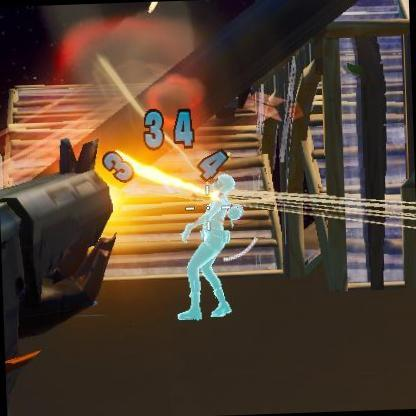person: (174, 173, 247, 319)
